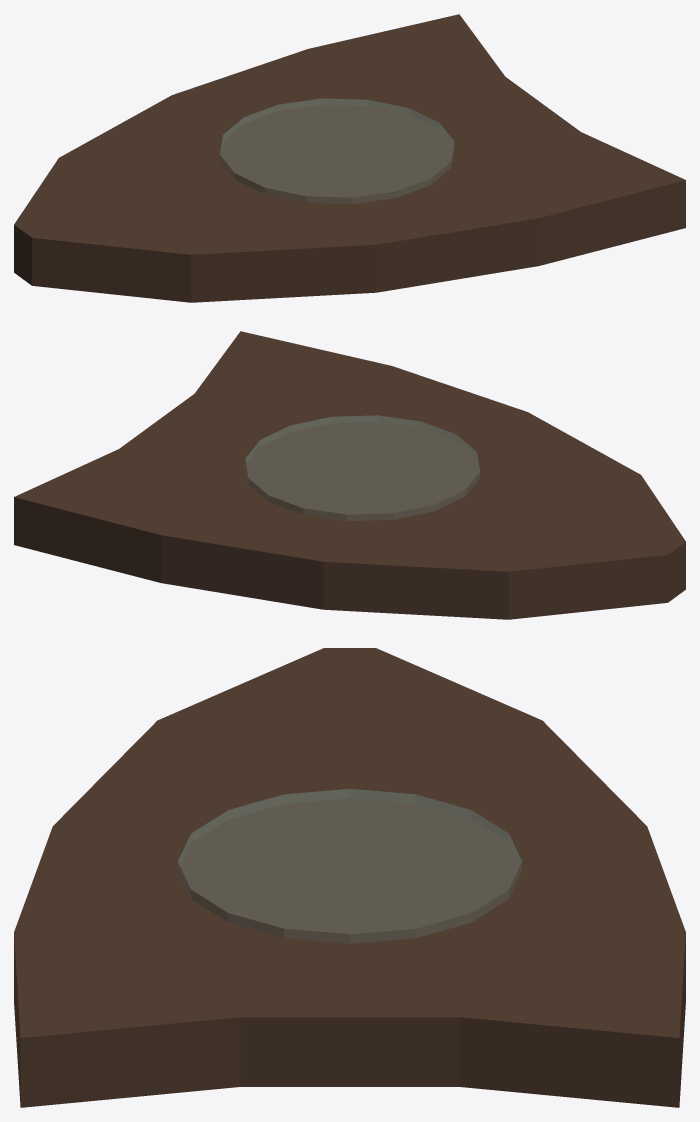
File: S_OuijaCursor.fbx
3 views of the same model, one above another, from view 1: azimuth 30°, elevation 25°; view 2: azimuth 150°, elevation 25°; view 3: azimuth 270°, elevation 25° (orthographic). The views are drawn at different scales.
Visible parts, largest first — view 1: S_OuijaCursor; view 2: S_OuijaCursor; view 3: S_OuijaCursor.
Boxes of the visible parts, left/top/right/bottom form: S_OuijaCursor: left=14, top=14, right=685, bottom=302; S_OuijaCursor: left=14, top=331, right=685, bottom=619; S_OuijaCursor: left=14, top=648, right=685, bottom=1107.
Size of the model in its own units: 23.53 by 2.44 by 17.13.
